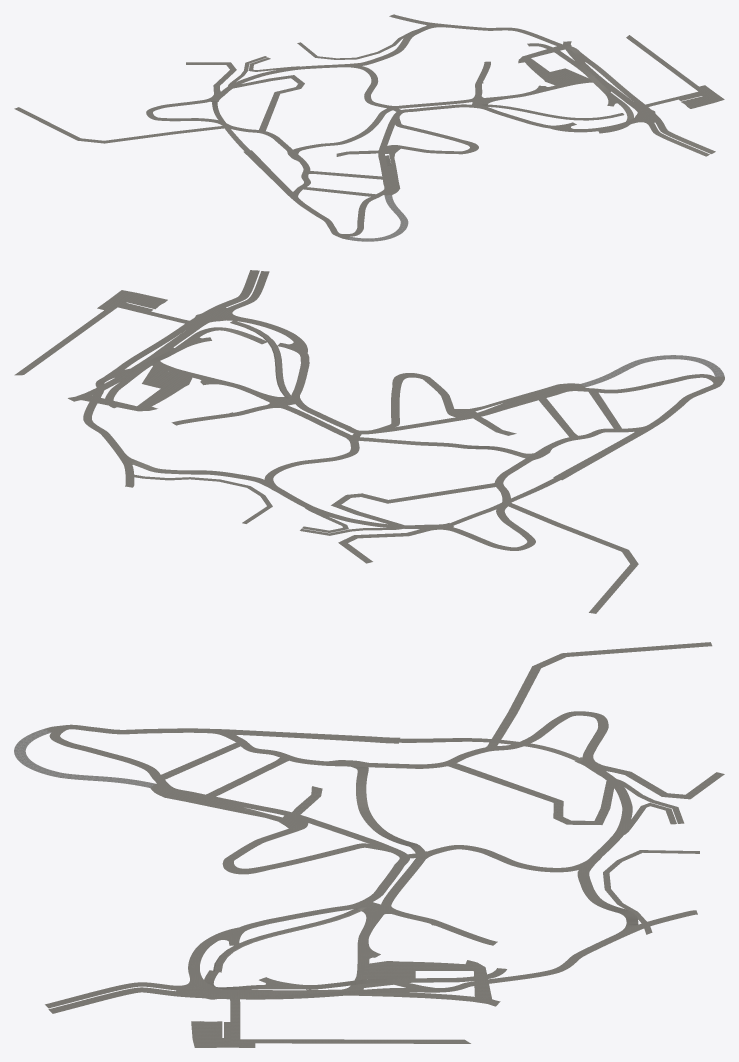
File: hongkong_road_04.FBX
The picture shows the model from 3 angles, top to bottom: view 1: azimuth 30°, elevation 25°; view 2: azimuth 150°, elevation 25°; view 3: azimuth 270°, elevation 25°; orthographic projection. The views are drawn at different scales.
Visible parts, largest first — view 1: kl_rd01_04a_04, kl_rd01_04a_01, kl_rd01_04a_03, kl_rd01_04a_02, kl_rd01_06_01; view 2: kl_rd01_04a_04, kl_rd01_04a_01, kl_rd01_04a_03, kl_rd01_04a_02, kl_rd01_06_01; view 3: kl_rd01_04a_04, kl_rd01_04a_01, kl_rd01_04a_03, kl_rd01_04a_02, kl_rd01_06_01.
Part boxes in pixels (x1,y1,x2,y2): kl_rd01_04a_04: (389, 14, 724, 156); kl_rd01_04a_01: (293, 61, 576, 211); kl_rd01_04a_03: (14, 25, 447, 143); kl_rd01_04a_02: (188, 98, 364, 239); kl_rd01_06_01: (348, 195, 408, 241); kl_rd01_04a_04: (14, 270, 305, 487); kl_rd01_04a_01: (171, 343, 643, 462); kl_rd01_04a_03: (126, 454, 638, 613); kl_rd01_04a_02: (440, 374, 724, 527); kl_rd01_06_01: (581, 355, 724, 387); kl_rd01_04a_04: (45, 910, 697, 1047); kl_rd01_04a_01: (119, 756, 503, 964); kl_rd01_04a_03: (448, 642, 724, 934); kl_rd01_04a_02: (44, 724, 585, 777); kl_rd01_06_01: (14, 729, 154, 787).
Size of the model in its own units: 1469 by 35.89 by 1088.
